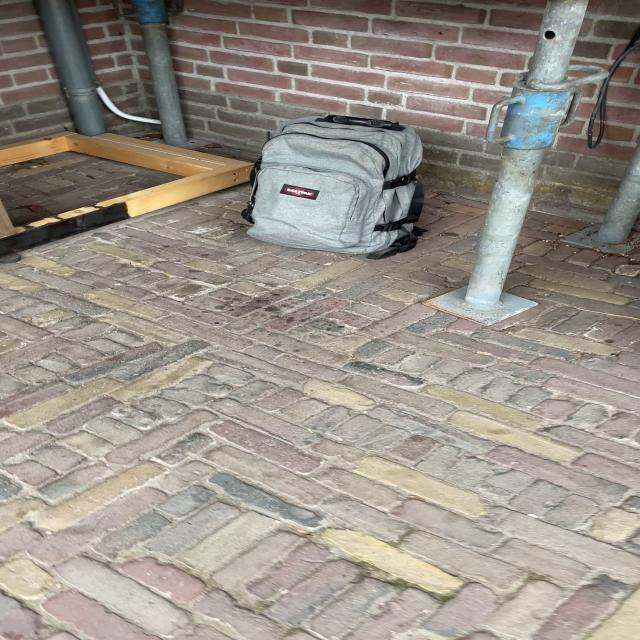backpack: (236, 107, 434, 260)
